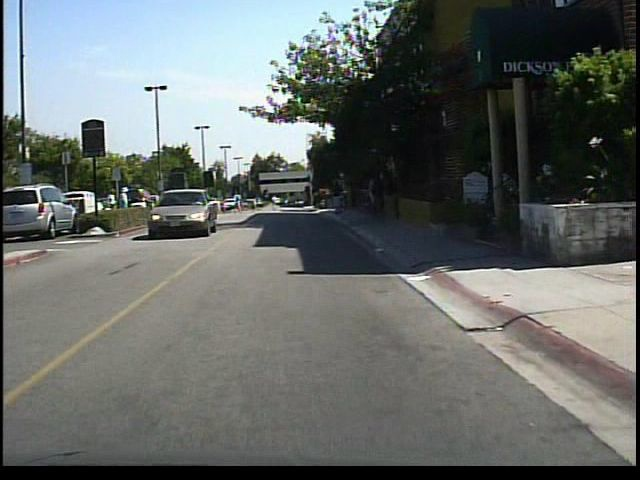person: (365, 166, 386, 222), (331, 175, 350, 218), (163, 182, 181, 224), (118, 184, 135, 228), (106, 186, 120, 228), (269, 194, 284, 217), (233, 189, 245, 217)
